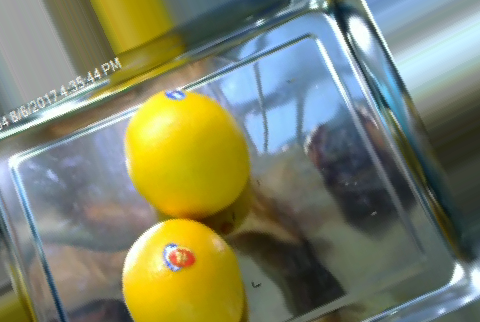Orange: (124, 86, 250, 216), (121, 216, 244, 322)
